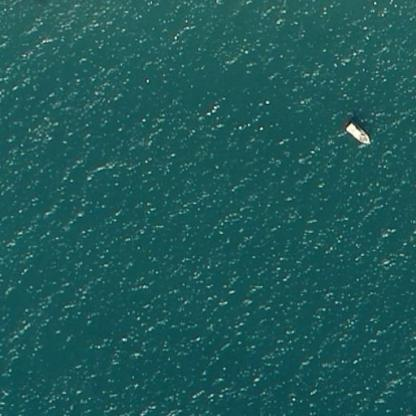ship: (340, 115, 374, 147)
